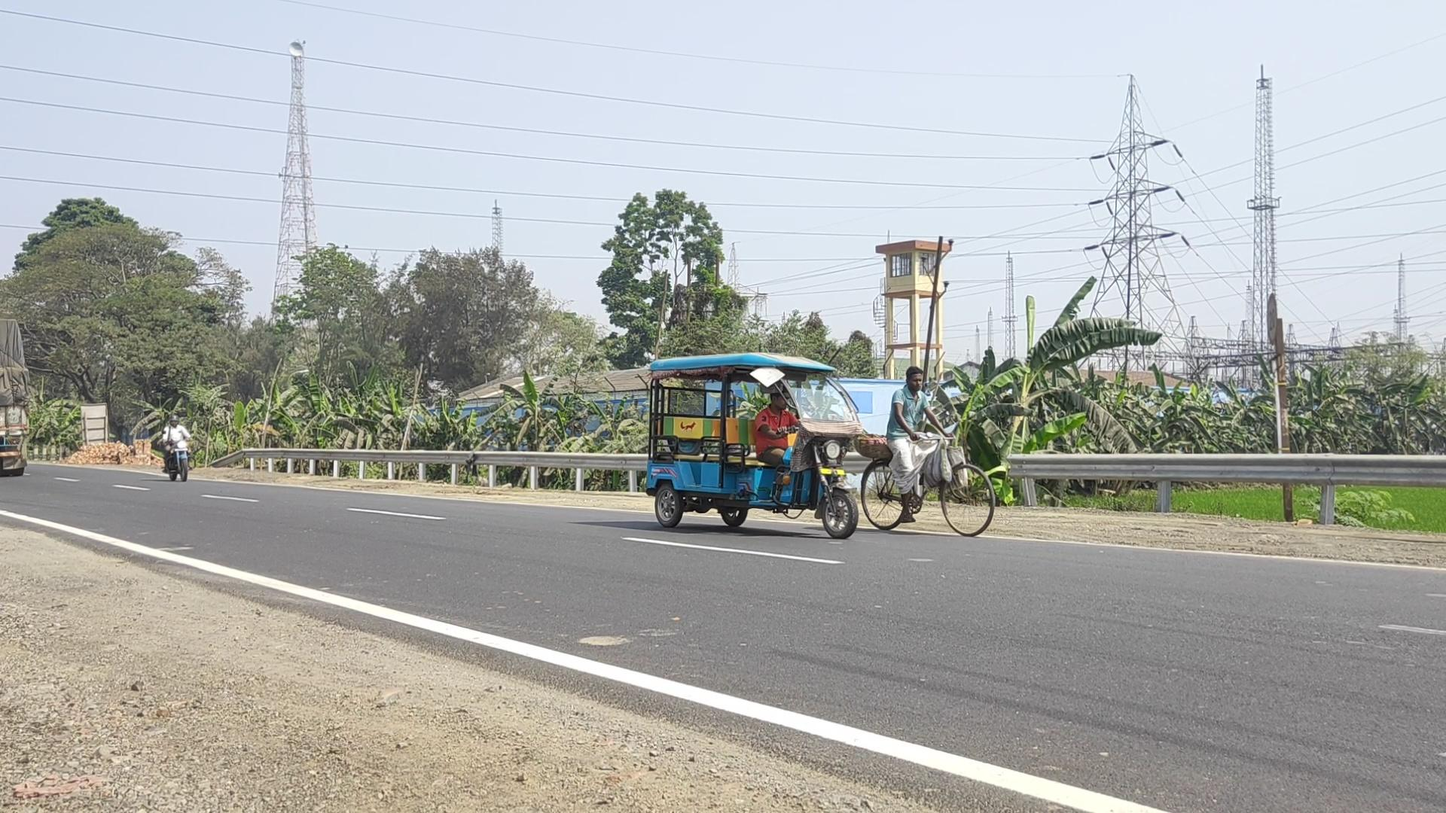Auto: (645, 352, 862, 540)
bike: (853, 365, 996, 537), (160, 414, 192, 482)
